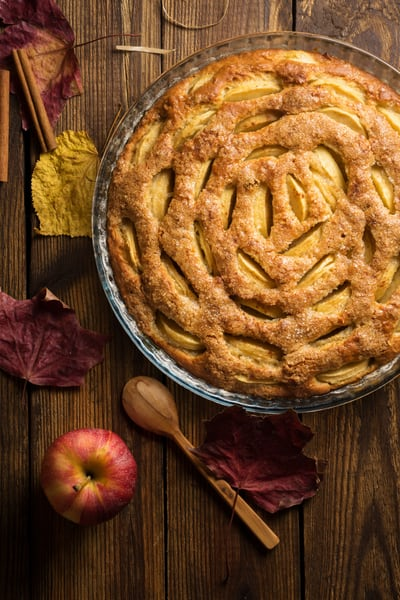apple: (34, 424, 141, 534)
